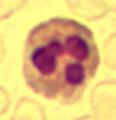neutrophil: (20, 14, 101, 103)
